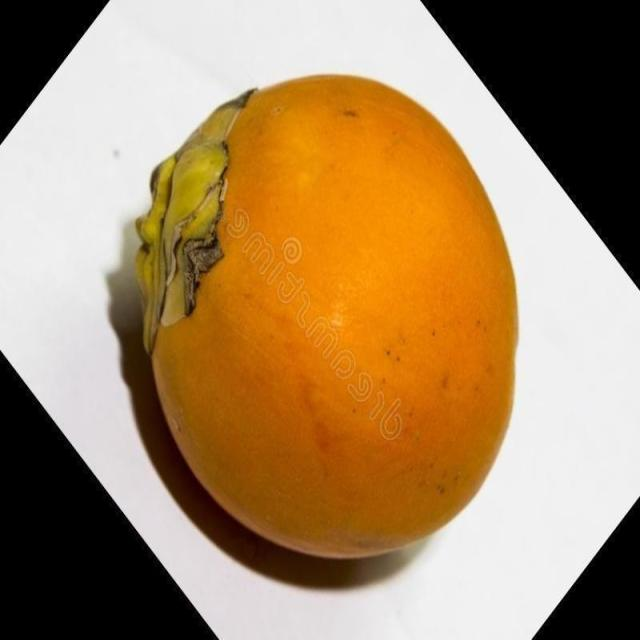good: (134, 75, 520, 564)
